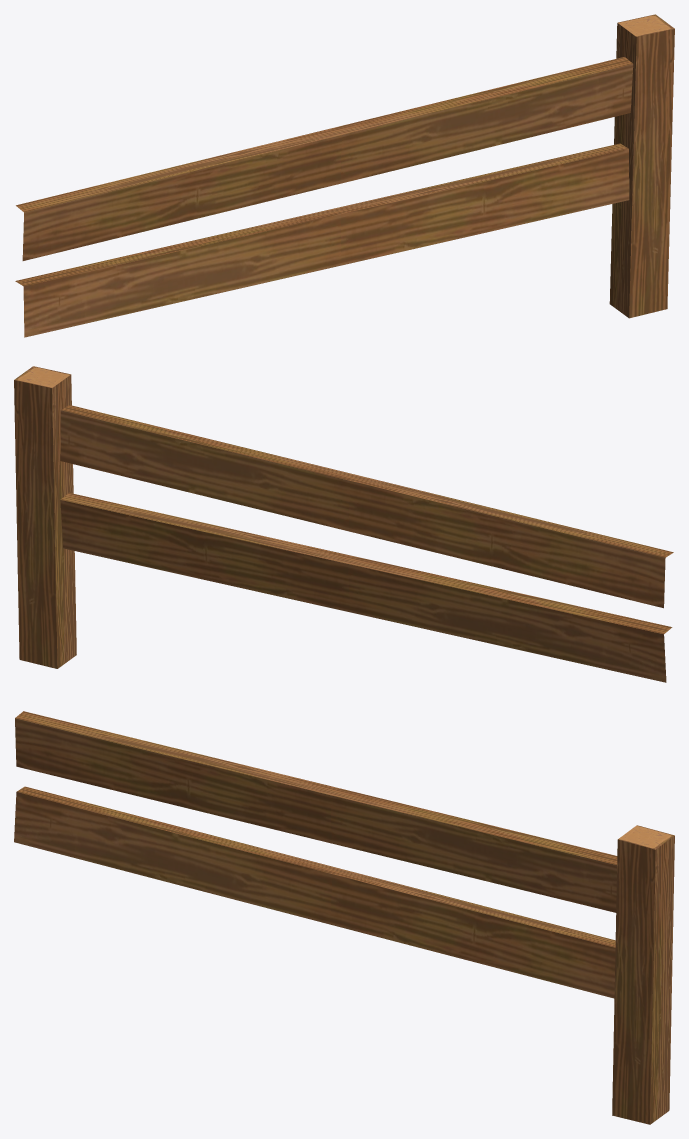
Rendered from prop-woodenfence-extension2.glb.
3 renders of one model, top to bottom at view 1: azimuth 30°, elevation 25°; view 2: azimuth 150°, elevation 25°; view 3: azimuth 330°, elevation 25°, orthographic.
Visible parts, largest first — view 1: Prop_WoodenFence_Extension2; view 2: Prop_WoodenFence_Extension2; view 3: Prop_WoodenFence_Extension2.
Boxes of the visible parts, box(x1,y1,x2,y2) form: Prop_WoodenFence_Extension2: box(15, 14, 674, 337); Prop_WoodenFence_Extension2: box(14, 366, 673, 682); Prop_WoodenFence_Extension2: box(14, 711, 674, 1124).
Bounding box in the file's own units: 2.03 × 0.8381 × 0.1104.
1 material, 1 textured.
